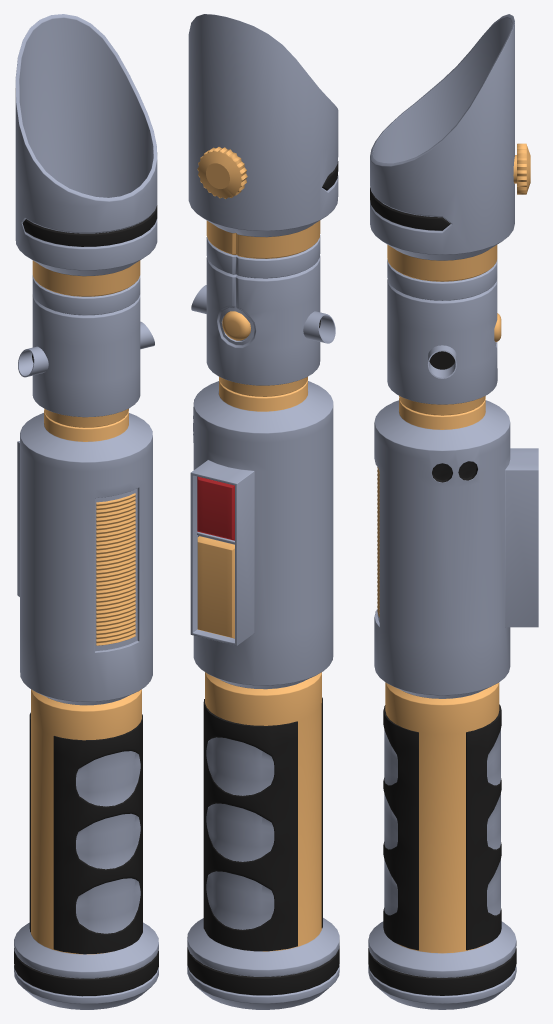
Rendered from SpadaLaser_type1.fbx.
The picture shows the model from 3 angles, left to right: view 1: azimuth 30°, elevation 25°; view 2: azimuth 150°, elevation 25°; view 3: azimuth 270°, elevation 25°; orthographic projection. The views are drawn at different scales.
Parts seen in each view (by area): view 1: Base, Dettaglio4, Dettaglio6, Dettaglio7, Dettaglio2; view 2: Base, Dettaglio4, Dettaglio3, Dettaglio1, Dettaglio2, Pulsante; view 3: Base, Dettaglio4, Dettaglio2, Dettaglio1, Dettaglio6.
Boxes of the visible parts, box(x1,y1,x2,y2) form: Base: box(14, 14, 158, 1009); Dettaglio4: box(29, 712, 142, 954); Dettaglio6: box(96, 493, 135, 645); Dettaglio7: box(95, 488, 137, 651); Dettaglio2: box(18, 321, 154, 377); Base: box(187, 14, 339, 1009); Dettaglio4: box(203, 697, 322, 951); Dettaglio3: box(197, 476, 234, 638); Dettaglio1: box(197, 147, 247, 198); Dettaglio2: box(191, 285, 335, 343); Pulsante: box(222, 311, 250, 340); Base: box(368, 14, 538, 1009); Dettaglio4: box(383, 704, 501, 950); Dettaglio2: box(427, 345, 456, 378); Dettaglio1: box(513, 143, 530, 194); Dettaglio6: box(377, 467, 379, 617).
Bounding box in the file's own units: 62.19 × 435 × 69.74.
